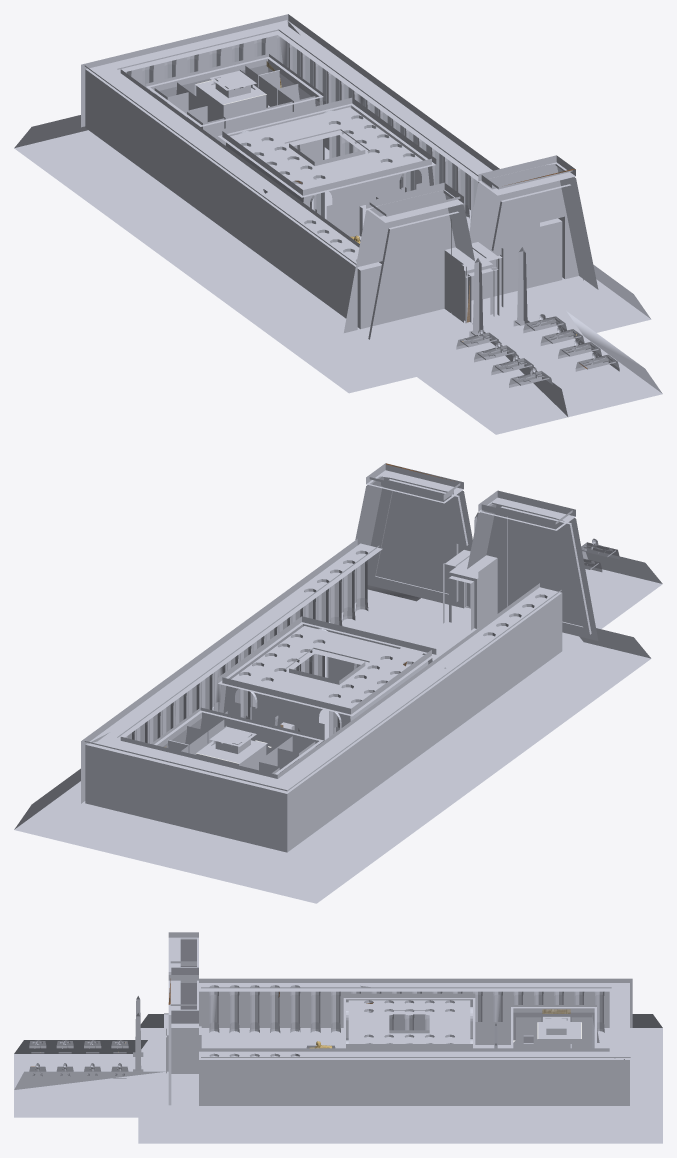
File: Egyptian_Temple_1.glb
3 views of the same model, one above another, from view 1: azimuth 30°, elevation 25°; view 2: azimuth 150°, elevation 25°; view 3: azimuth 270°, elevation 25° (orthographic). The views are drawn at different scales.
Visible parts, largest first — view 1: Material2; view 2: Material2; view 3: Material2.
Boxes of the visible parts, x1=… form: Material2: x1=14, y1=14, x2=662, y2=434; Material2: x1=14, y1=463, x2=662, y2=903; Material2: x1=14, y1=932, x2=662, y2=1143.
Bounding box in the file's own units: 5.58 × 2.63 × 13.23.
8 materials, 6 textured.
